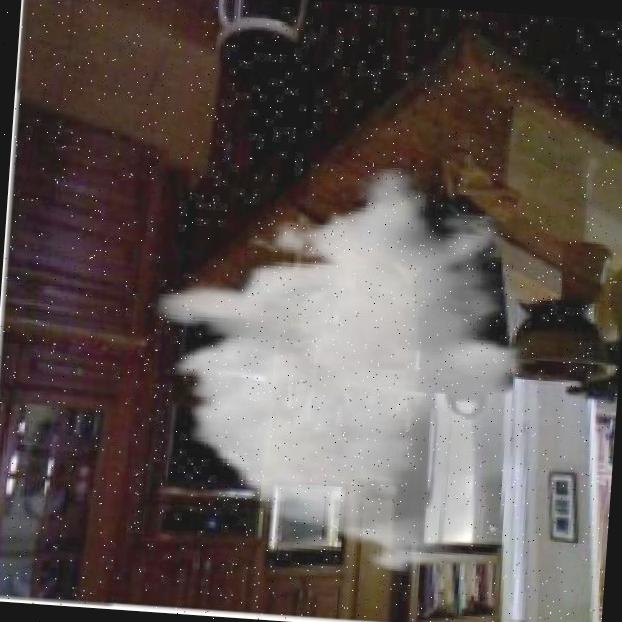smoke: (155, 176, 518, 552)
